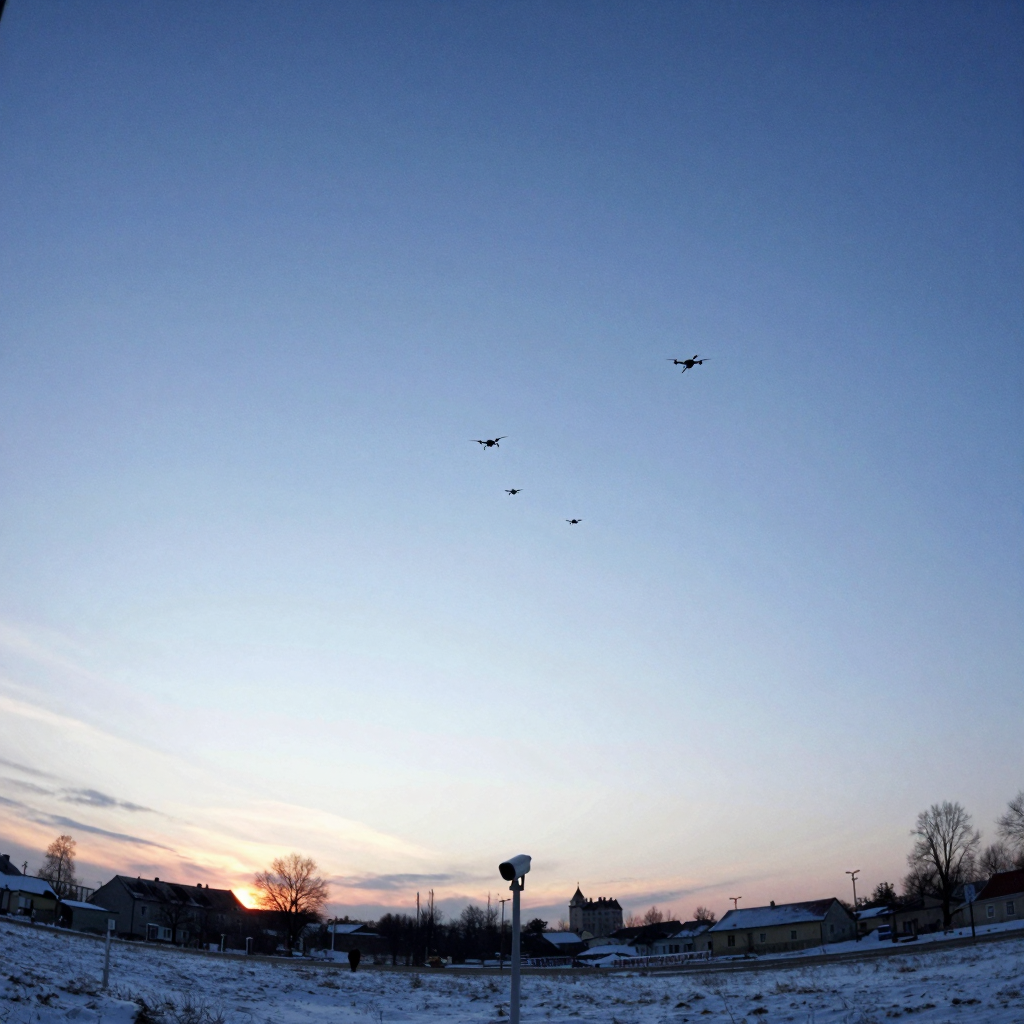drone: (666, 355, 711, 373), (469, 436, 508, 450), (499, 858, 512, 891), (504, 488, 524, 496), (565, 519, 583, 526), (504, 489, 512, 496)
